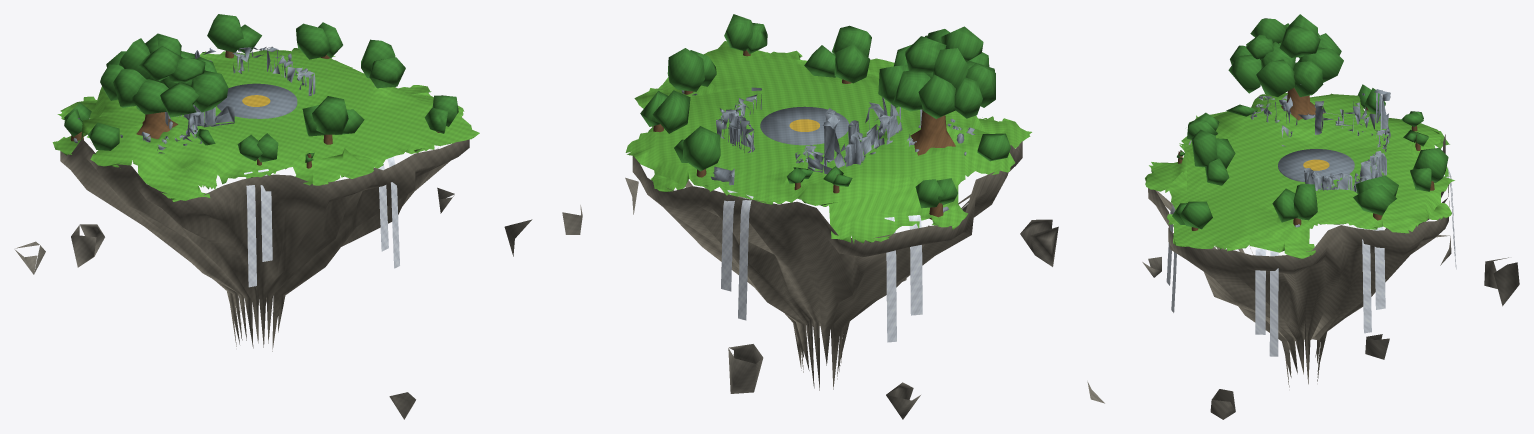
Rendered from island-distant.glb.
3 views of the same model, side by side, from view 1: azimuth 30°, elevation 25°; view 2: azimuth 150°, elevation 25°; view 3: azimuth 270°, elevation 25° (orthographic). The views are drawn at different scales.
Parts seen in each view (by area): view 1: island-distant; view 2: island-distant; view 3: island-distant.
Part boxes in pixels (bbox=[...]): island-distant: bbox=[14, 14, 532, 419]; island-distant: bbox=[562, 14, 1058, 419]; island-distant: bbox=[1087, 14, 1519, 419].
Size of the model in its own units: 60.74 by 45.33 by 55.74.
10 materials, 10 textured.
